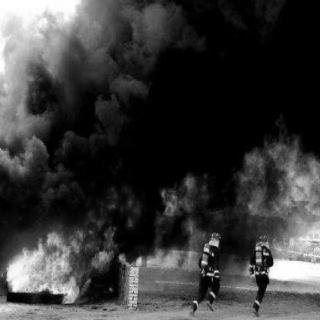Fire: (3, 183, 144, 309)
Smoke: (17, 5, 315, 189)
